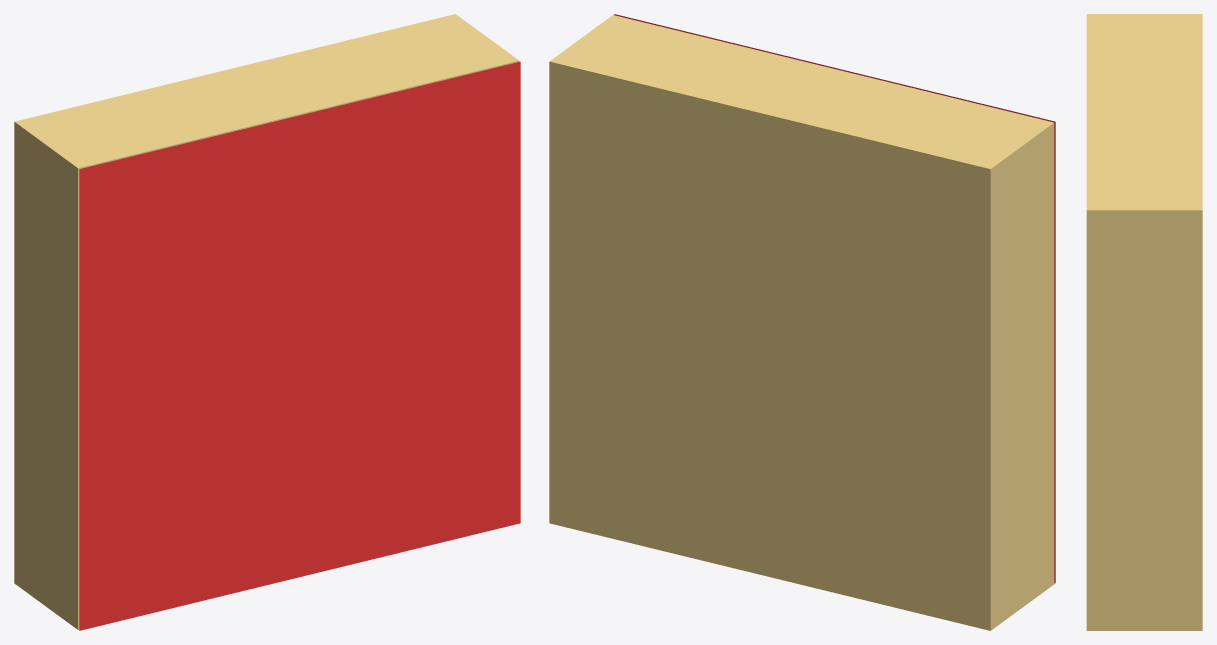
The model's file is TileWithNumber.FBX.
The picture shows the model from 3 angles, left to right: view 1: azimuth 30°, elevation 25°; view 2: azimuth 150°, elevation 25°; view 3: azimuth 270°, elevation 25°; orthographic projection. The views are drawn at different scales.
Visible parts, largest first — view 1: VisualTile; view 2: VisualTile; view 3: VisualTile.
Part boxes in pixels (x1,y1,x2,y2): VisualTile: (14,14,520,630); VisualTile: (549,14,1055,630); VisualTile: (1086,14,1202,630).
Bounding box in the file's own units: 0.0254 × 0.00648 × 0.0254.
